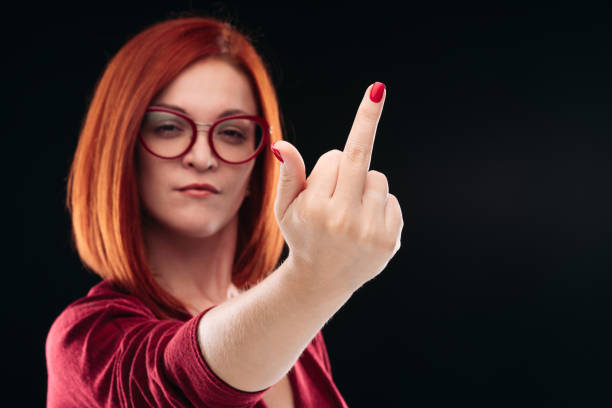insulting_gesture: (272, 80, 403, 303)
